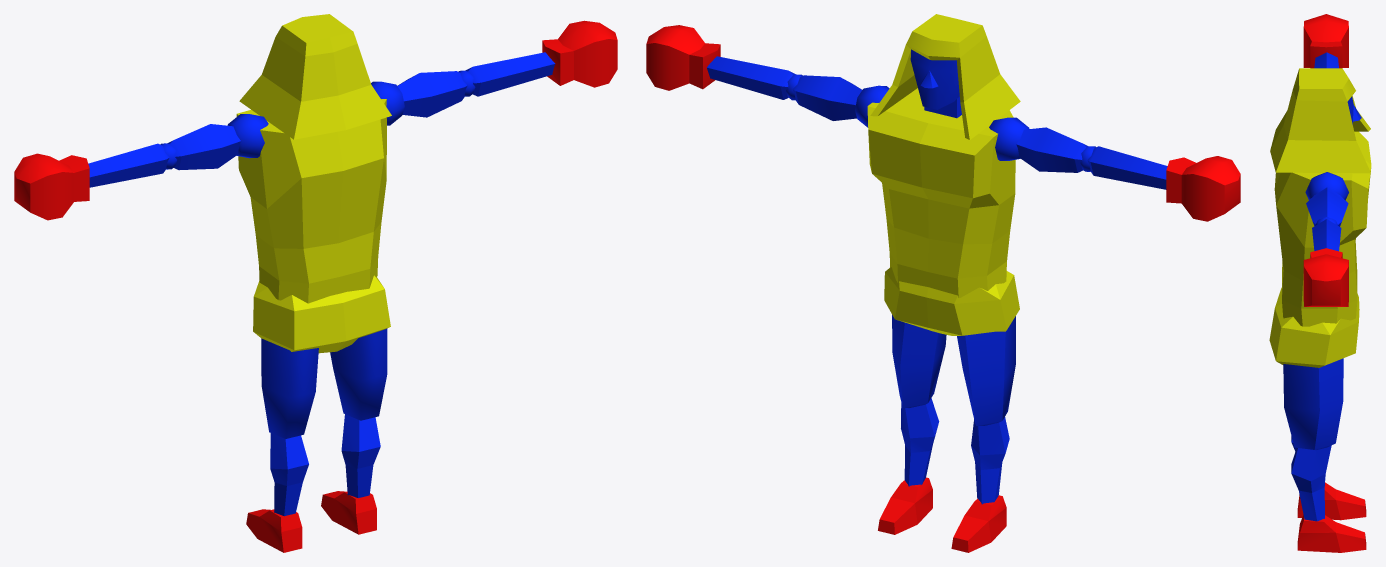
The model's file is Chara_Pharaon.fbx.
The picture shows the model from 3 angles, left to right: view 1: azimuth 30°, elevation 25°; view 2: azimuth 150°, elevation 25°; view 3: azimuth 270°, elevation 25°; orthographic projection. The views are drawn at different scales.
Visible parts, largest first — view 1: CHest, Hat, Hips, Quadri01, Hand01, Quadri02, Hand02, Mollet02, Muscle01, Mollet01, Muscle02, avMuscle02 (+5 smaller); view 2: CHest, Hat, Hips, Quadri01, Hand01, Hand02, Quadri02, Muscle01, Mollet02, Muscle02, Mollet01, avMuscle02 (+5 smaller); view 3: Hat, CHest, Quadri02, Hips, Hand02, Mollet02, Hand01, Foot002, Foot01, Muscle02, avMuscle02, Shoulder02 (+2 smaller).
Boxes of the visible parts, <box> form: CHest: <box>236,99,386,303</box>; Hat: <box>239,14,391,139</box>; Hips: <box>253,275,390,353</box>; Quadri01: <box>261,338,318,438</box>; Hand01: <box>14,153,89,220</box>; Quadri02: <box>330,328,387,420</box>; Hand02: <box>542,20,617,87</box>; Mollet02: <box>341,414,380,497</box>; Muscle01: <box>167,124,240,170</box>; Mollet01: <box>270,433,308,516</box>; Muscle02: <box>397,71,467,117</box>; avMuscle02: <box>465,52,555,96</box>; CHest: <box>867,88,1015,297</box>; Hat: <box>870,14,1020,139</box>; Hips: <box>884,267,1019,335</box>; Quadri01: <box>957,316,1015,425</box>; Hand01: <box>1166,156,1240,221</box>; Hand02: <box>646,25,720,90</box>; Quadri02: <box>892,315,946,407</box>; Muscle01: <box>1016,127,1088,172</box>; Mollet02: <box>901,398,939,486</box>; Muscle02: <box>793,75,861,120</box>; Mollet01: <box>971,417,1009,504</box>; avMuscle02: <box>707,56,796,99</box>; Hat: <box>1270,68,1370,173</box>; CHest: <box>1274,131,1371,326</box>; Quadri02: <box>1283,358,1343,449</box>; Hips: <box>1269,287,1359,367</box>; Hand02: <box>1303,248,1348,306</box>; Mollet02: <box>1291,445,1331,521</box>; Hand01: <box>1303,14,1348,68</box>; Foot002: <box>1297,514,1366,552</box>; Foot01: <box>1297,482,1366,520</box>; Muscle02: <box>1306,187,1348,226</box>; avMuscle02: <box>1312,219,1341,251</box>; Shoulder02: <box>1305,172,1348,200</box>.
Size of the model in its own units: 2.55 by 2.05 by 0.4192.
